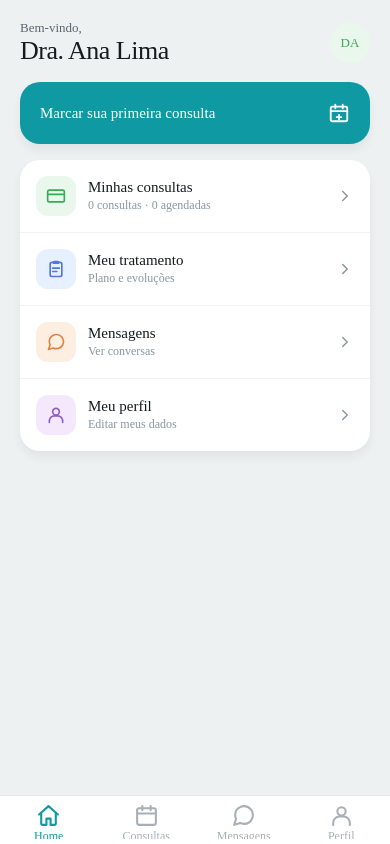
Meu Tratamento (tela) › abre pela Home e mostra o plano e as evoluções do Figma
The width and height of the screenshot is (390, 844).
Click the button with test id "home-meu-tratamento" at coordinates (56, 269), box [20,233,370,306]
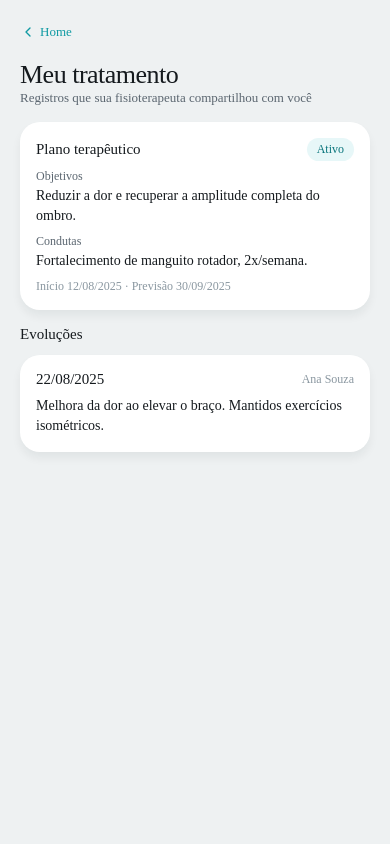
Check: the heading "Meu tratamento" is shown, box [20,60,178,89]
Check: the text "Plano terapêutico" is shown, box [36,141,140,158]
Check: the text "Ativo" is shown, box [307,138,354,161]
